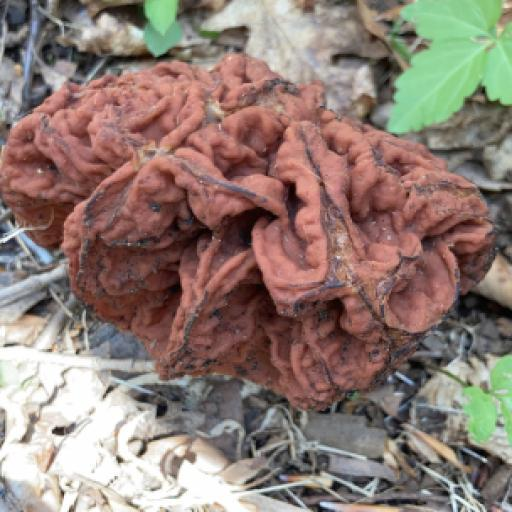mushroom: (0, 2, 506, 445)
